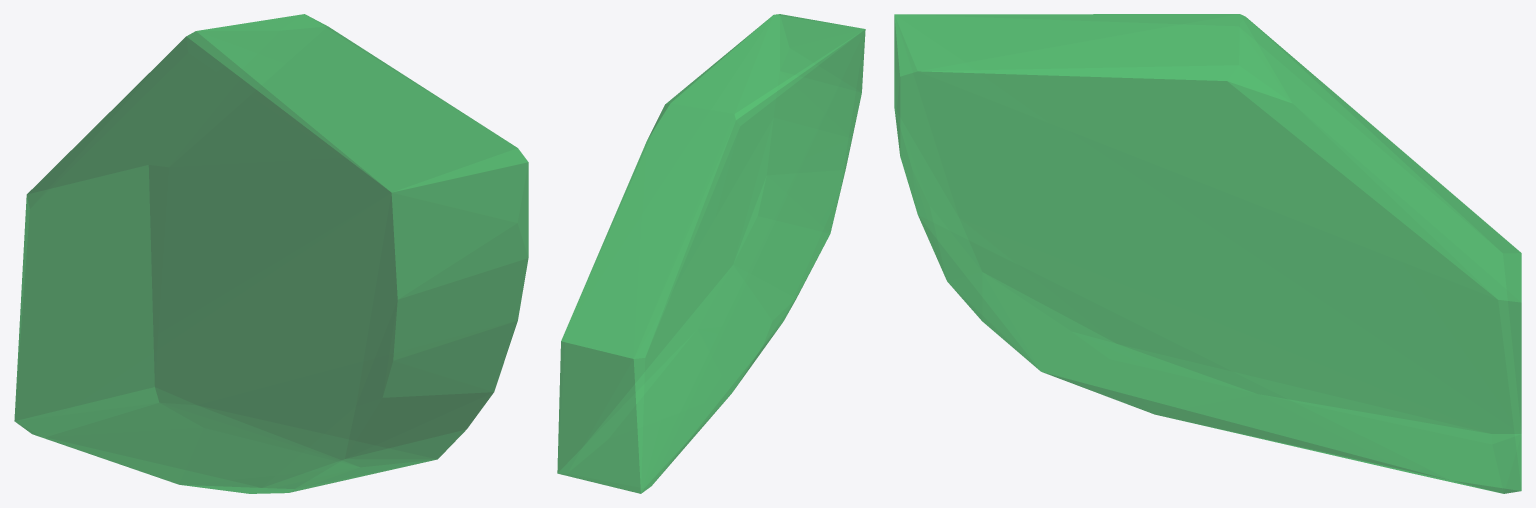
3 renders of one model, left to right at view 1: azimuth 30°, elevation 25°; view 2: azimuth 150°, elevation 25°; view 3: azimuth 270°, elevation 25°, orthographic. The views are drawn at different scales.
Parts seen in each view (by area): view 1: Shape_IndexedFaceSet.001_Shape_IndexedFaceSet.3658; view 2: Shape_IndexedFaceSet.001_Shape_IndexedFaceSet.3658; view 3: Shape_IndexedFaceSet.001_Shape_IndexedFaceSet.3658.
Part boxes in pixels (x1,y1,x2,y2): Shape_IndexedFaceSet.001_Shape_IndexedFaceSet.3658: [14, 14, 528, 493]; Shape_IndexedFaceSet.001_Shape_IndexedFaceSet.3658: [557, 14, 865, 493]; Shape_IndexedFaceSet.001_Shape_IndexedFaceSet.3658: [894, 14, 1521, 493].
Bounding box in the file's own units: 0.0644 × 0.2268 × 0.2996.
